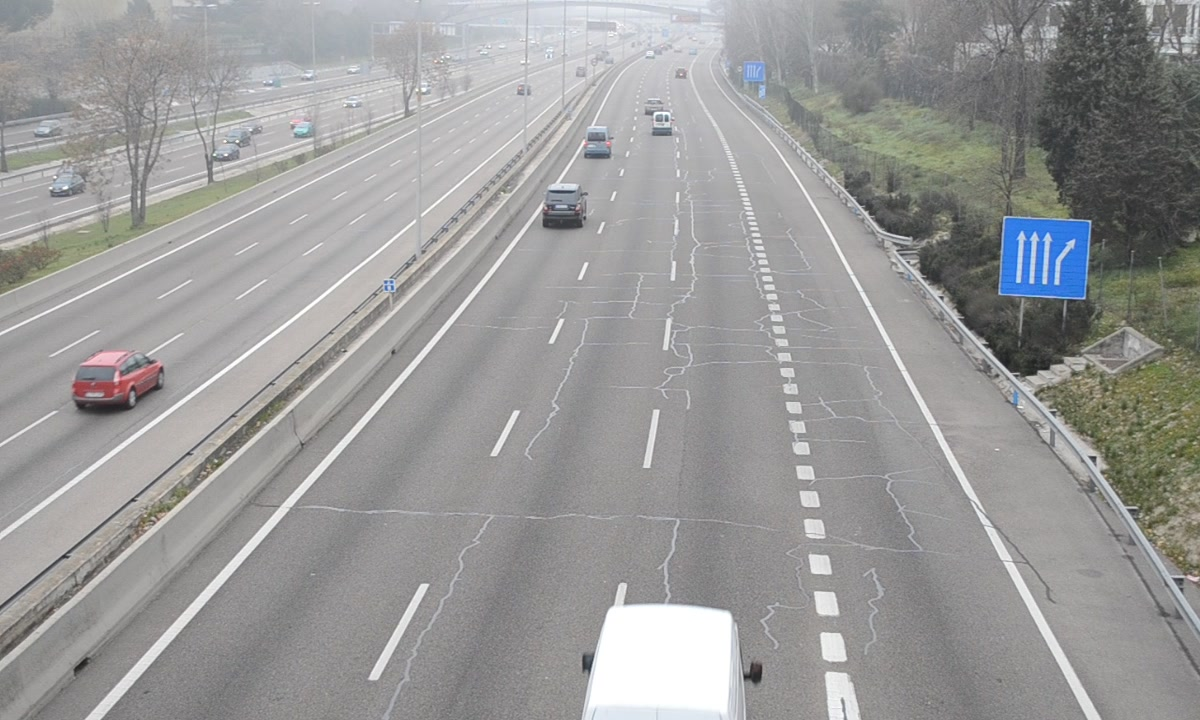car: (542, 183, 587, 226)
van: (581, 604, 750, 720), (584, 124, 612, 156)
